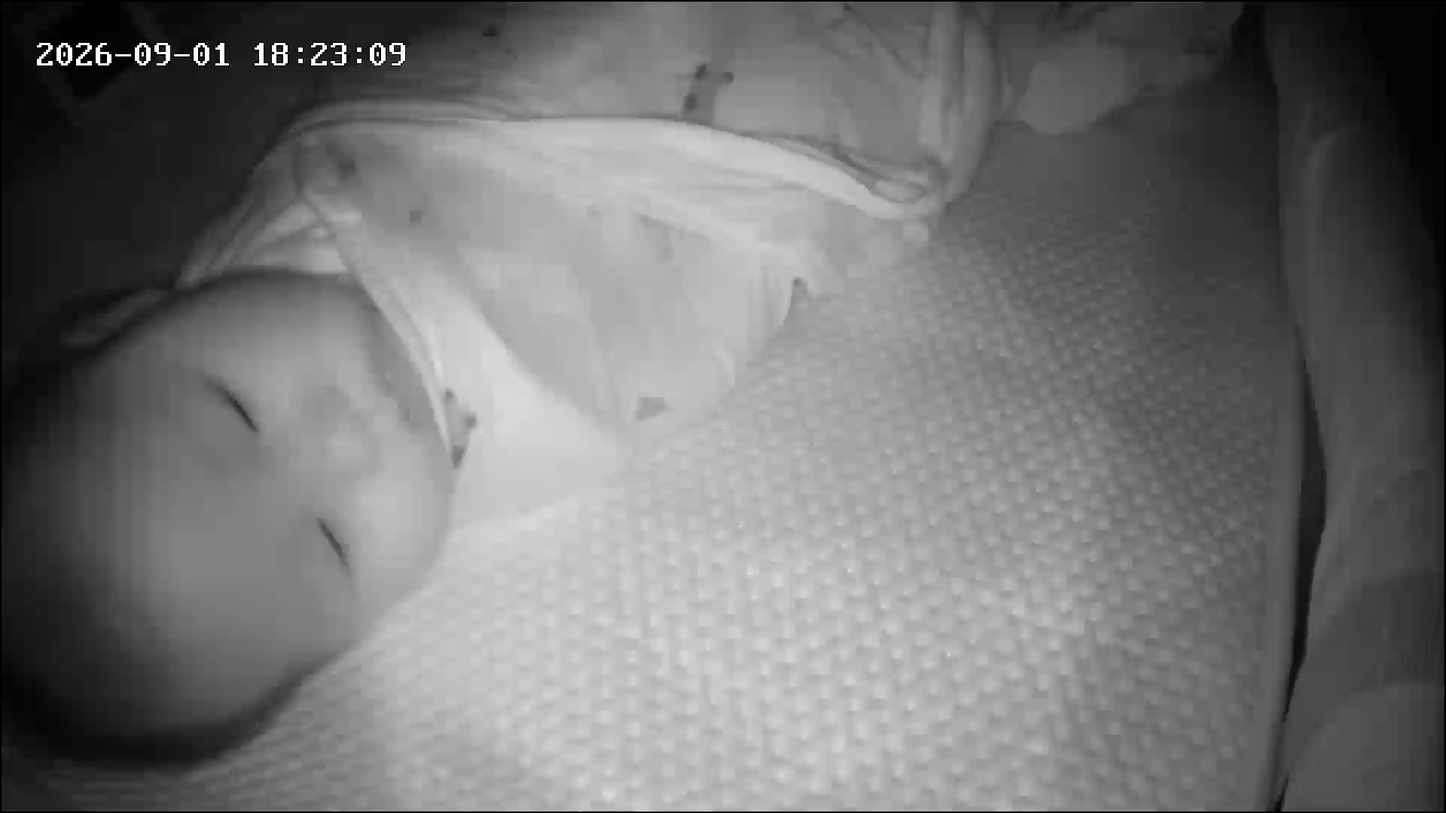baby: (0, 1, 881, 787)
baby_face: (0, 263, 473, 778)
